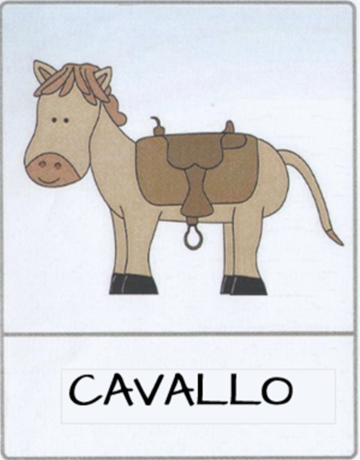cavallo: (6, 27, 360, 447)
